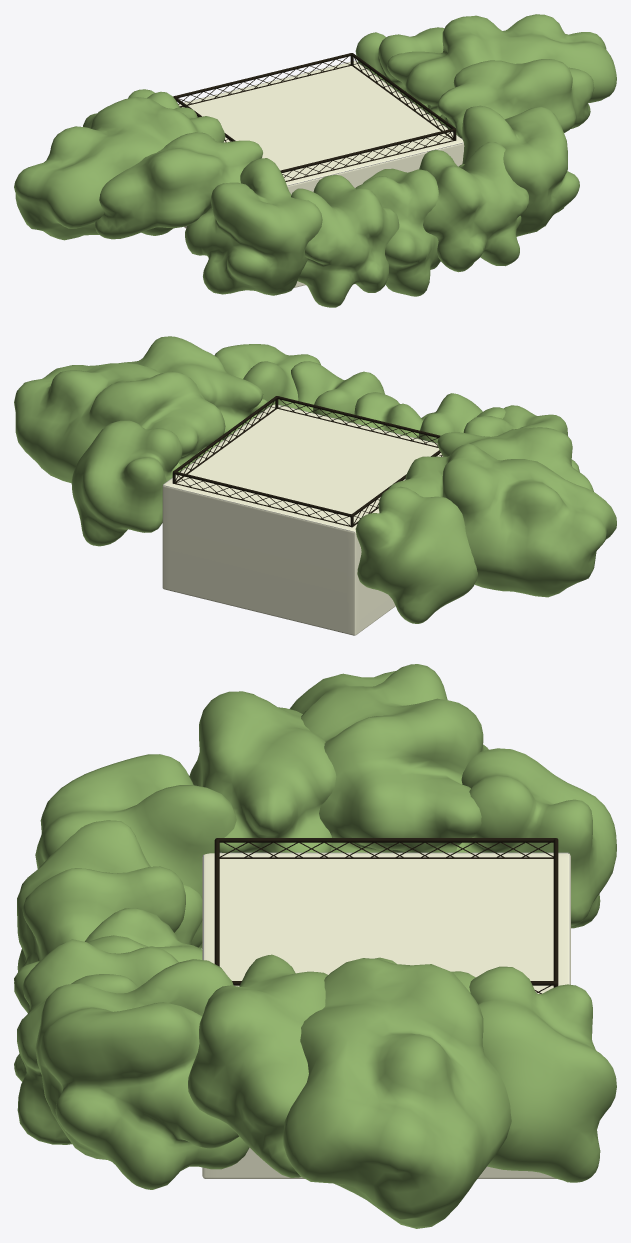
The model's file is 3D game scene.fbx.
The picture shows the model from 3 angles, top to bottom: view 1: azimuth 30°, elevation 25°; view 2: azimuth 150°, elevation 25°; view 3: azimuth 270°, elevation 25°; orthographic projection. The views are drawn at different scales.
Visible parts, largest first — view 1: p22, p44, pCube1, p55, p33, p66, p11, polySurface3, pCube68, polySurface4; view 2: pCube1, p22, p11, p33, p44, p55, polySurface3, p66, pCube68, polySurface4, pCube67; view 3: p22, p44, pCube1, p11, p33, p55, p66, polySurface3, pCube67.
Part boxes in pixels (<box>): p22: <box>14,14,616,240</box>; p44: <box>185,105,579,295</box>; pCube1: <box>179,61,464,287</box>; p55: <box>291,142,529,307</box>; p33: <box>95,59,594,239</box>; p66: <box>355,168,440,296</box>; p11: <box>83,27,444,128</box>; polySurface3: <box>173,53,456,172</box>; pCube68: <box>178,57,453,179</box>; polySurface4: <box>180,65,453,181</box>; pCube1: <box>162,404,442,635</box>; p22: <box>14,362,616,597</box>; p11: <box>71,420,477,623</box>; p33: <box>121,336,593,491</box>; p44: <box>214,344,579,471</box>; p55: <box>291,361,505,443</box>; polySurface3: <box>172,396,440,527</box>; p66: <box>351,392,423,438</box>; pCube68: <box>175,399,437,526</box>; polySurface4: <box>175,408,438,526</box>; pCube67: <box>175,401,442,524</box>; p22: <box>283,664,511,1228</box>; p44: <box>35,754,249,1189</box>; pCube1: <box>202,853,570,1178</box>; p11: <box>456,748,616,1182</box>; p33: <box>188,691,336,1177</box>; p55: <box>14,820,202,1144</box>; p66: <box>14,908,202,1012</box>; polySurface3: <box>214,838,558,987</box>; pCube67: <box>219,842,553,993</box>.
Size of what is drawn, in the model's own units: 584 by 154 by 315.
